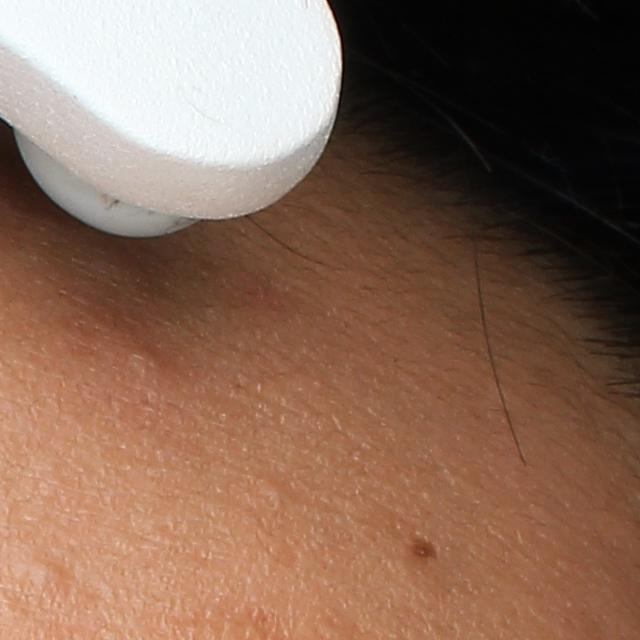comedo: (29, 550, 69, 592), (257, 474, 292, 507), (130, 346, 166, 376)
nevus: (409, 529, 436, 562)
